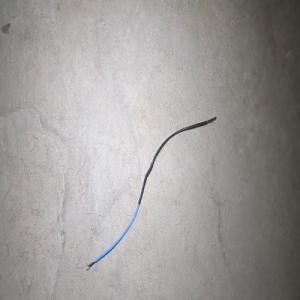Wire: (85, 116, 216, 271)
